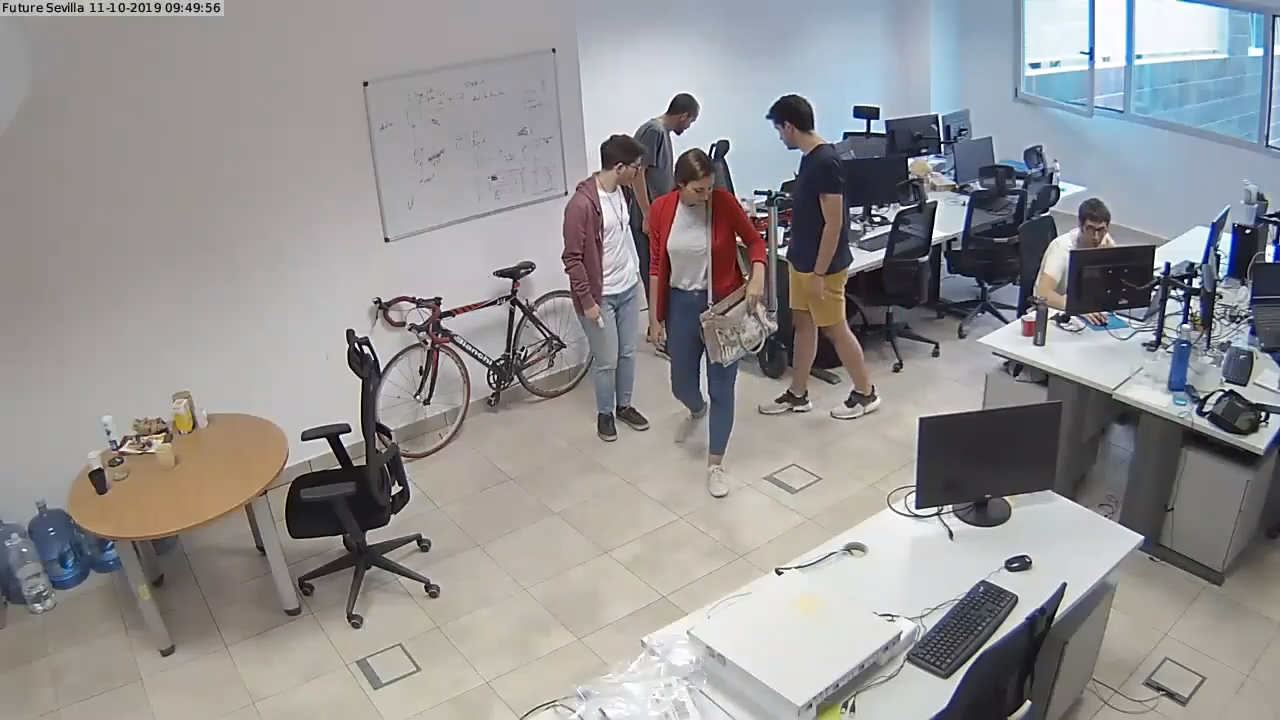head: (760, 88, 825, 165), (675, 146, 723, 213), (659, 89, 705, 153), (597, 135, 650, 189), (1072, 193, 1114, 255)
